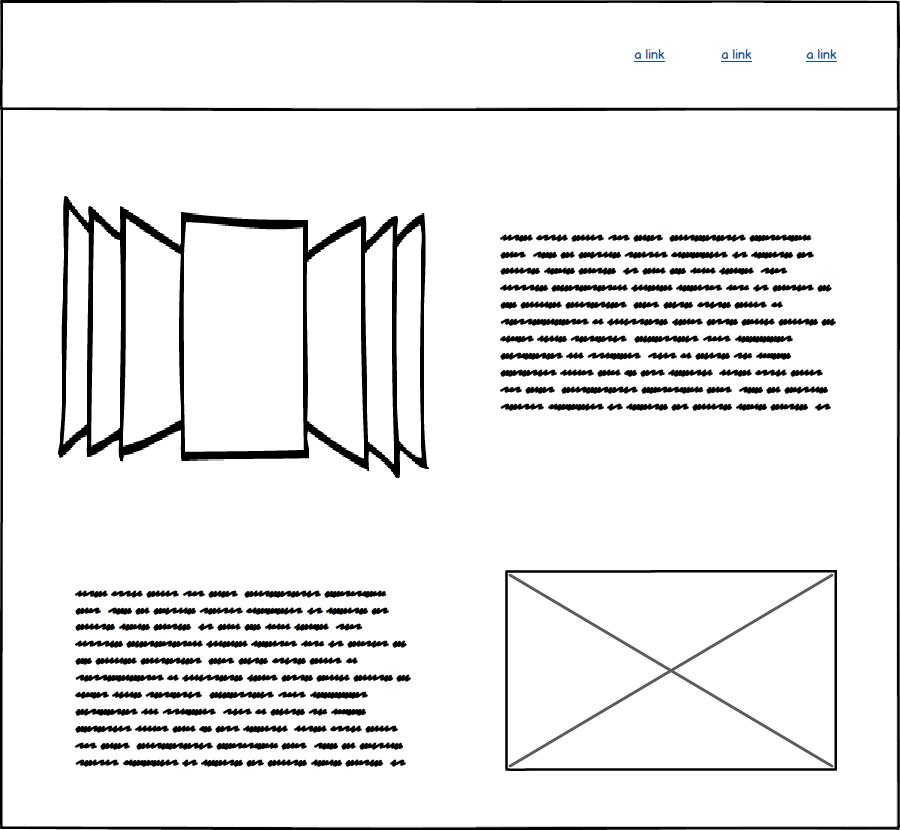image: (496, 561, 844, 776)
navlink: (707, 39, 765, 68), (799, 40, 845, 73), (628, 42, 675, 74)
p: (68, 577, 432, 783), (494, 224, 851, 426)
slideshow: (44, 187, 445, 487)
